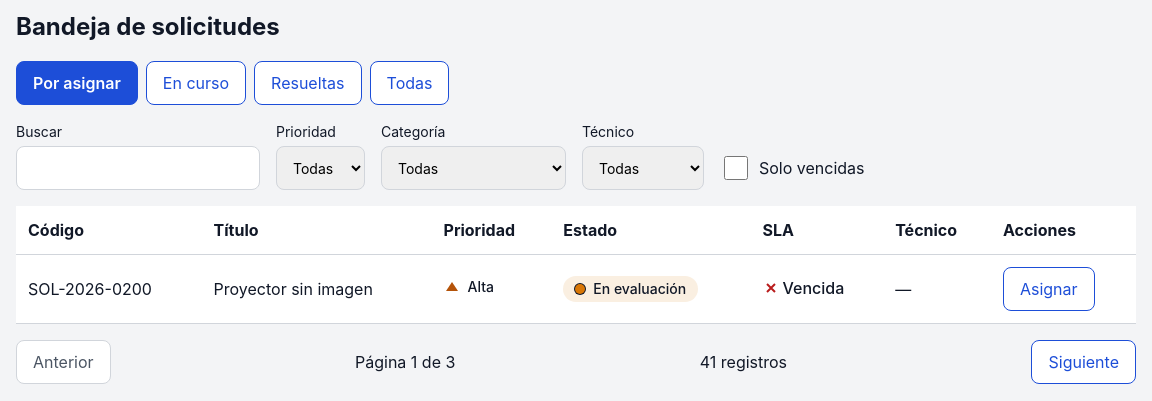
BandejaSupervisorPage › pagina mostrando las filas de cada página y vuelve a la primera al cambiar de pestaña
Expected: the text "SOL-2026-0200" is shown, [16,255,202,324]
Step 1. Click the button "Siguiente" → (1084, 362), box [1032,340,1136,384]
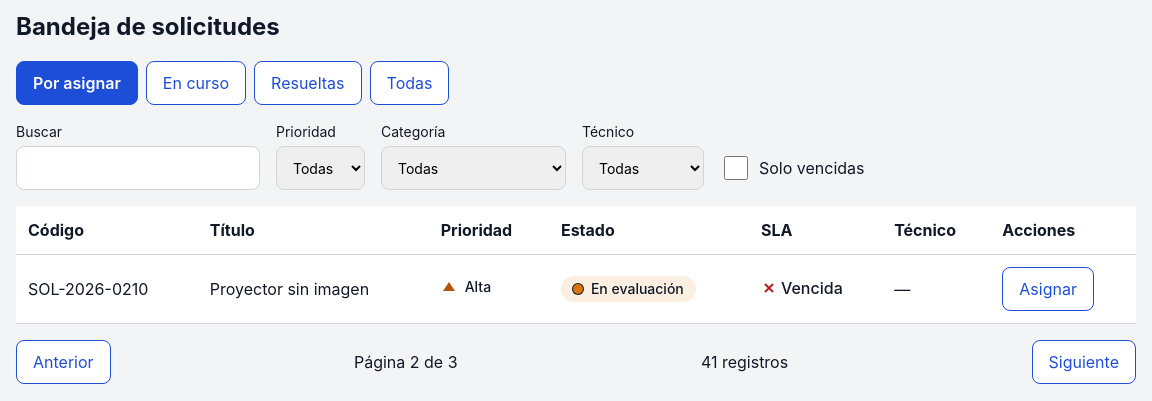
Expected: the text "SOL-2026-0210" is shown, [16,255,198,324]
Expected: the text "SOL-2026-0200" is gone
Step 2. Click the tab "Todas" → (409, 83), box [370,61,449,105]
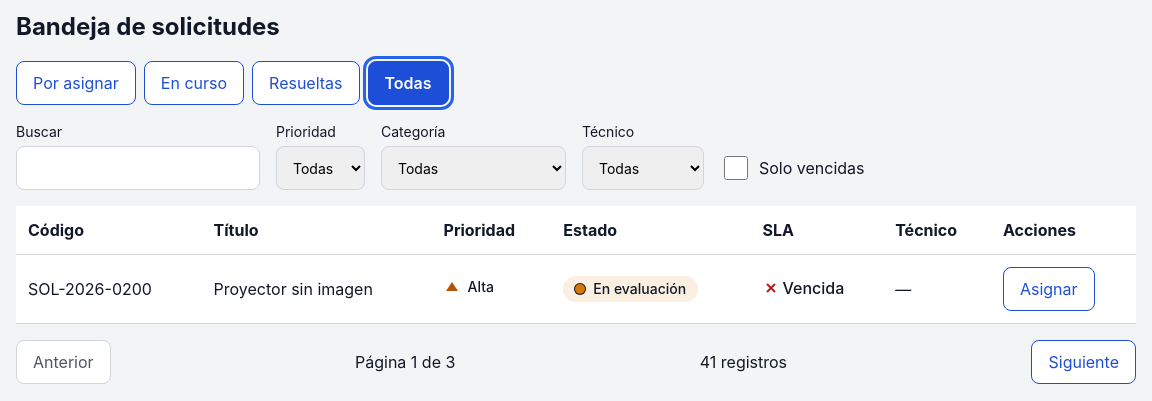
Expected: the text "SOL-2026-0200" is shown, [16,255,202,324]
